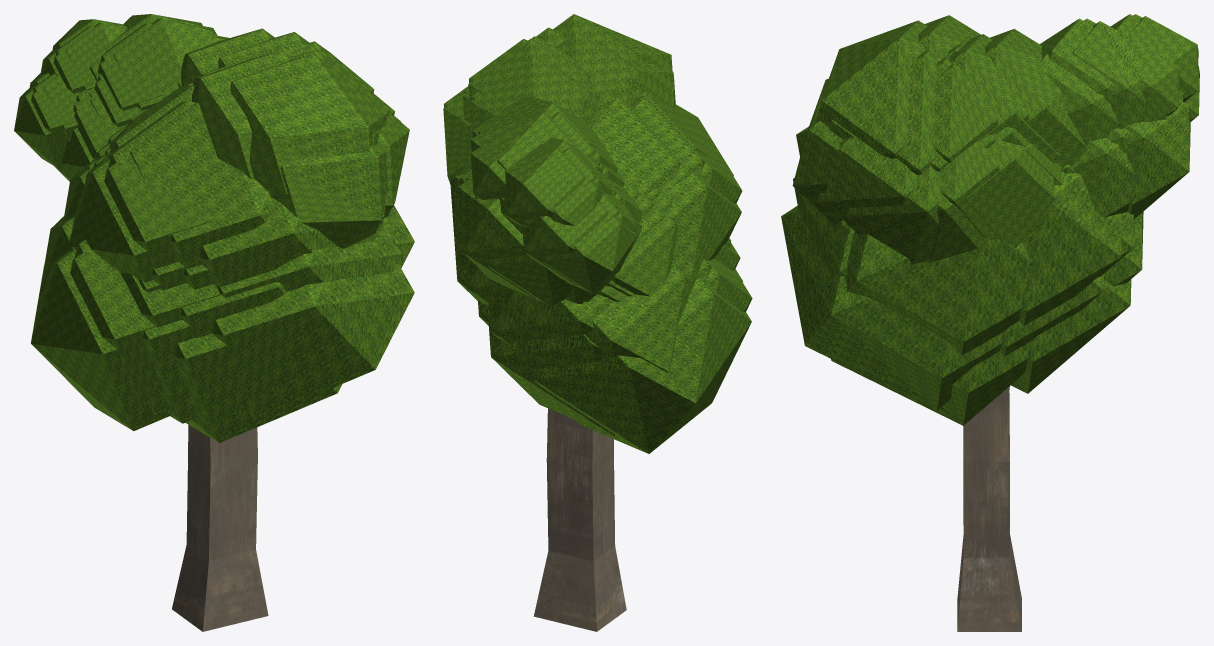
Rendered from tree 1.glb.
The picture shows the model from 3 angles, left to right: view 1: azimuth 30°, elevation 25°; view 2: azimuth 150°, elevation 25°; view 3: azimuth 270°, elevation 25°; orthographic projection. The views are drawn at different scales.
Visible parts, largest first — view 1: hoja.002, hoja.001, Cube; view 2: hoja.002, hoja.001, Cube; view 3: hoja.002, hoja.001, Cube.
Part boxes in pixels (bbox=[...]): hoja.002: bbox=[14, 14, 414, 442]; hoja.001: bbox=[177, 28, 409, 248]; Cube: bbox=[172, 425, 268, 631]; hoja.002: bbox=[450, 91, 752, 453]; hoja.001: bbox=[443, 14, 675, 183]; Cube: bbox=[533, 408, 626, 631]; hoja.002: bbox=[781, 14, 1199, 425]; hoja.001: bbox=[792, 15, 1087, 264]; Cube: bbox=[957, 386, 1021, 631].
Bounding box in the file's own units: 4.12 × 7.24 × 4.56.
Materials: 5 (3 with a texture image).
